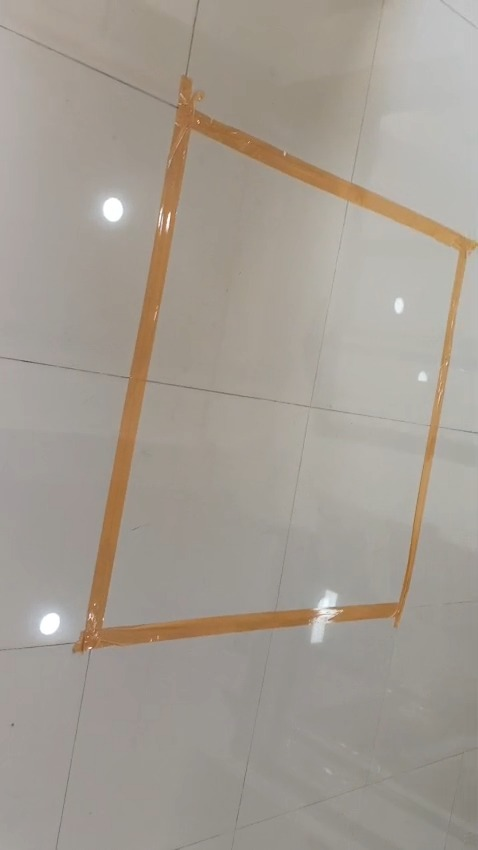floor marking: (74, 76, 477, 650)
